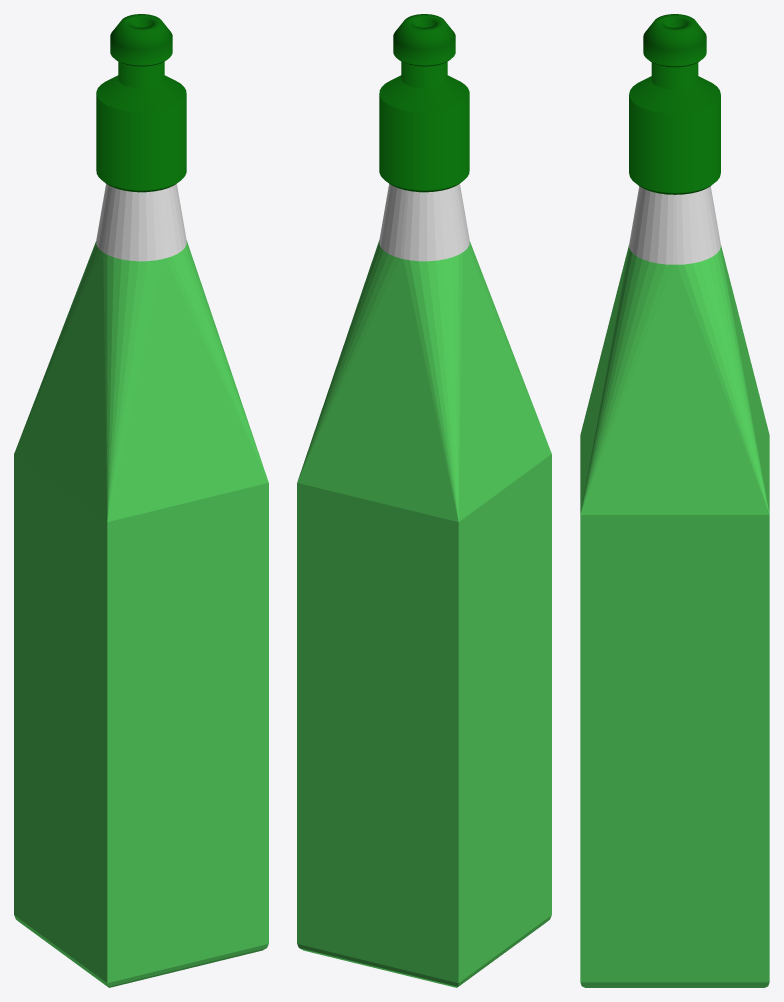
The model's file is eiyouzai2.fbx.
3 views of the same model, side by side, from view 1: azimuth 30°, elevation 25°; view 2: azimuth 150°, elevation 25°; view 3: azimuth 270°, elevation 25° (orthographic).
Visible parts, largest first — view 1: 円柱.001; view 2: 円柱.001; view 3: 円柱.001.
Boxes of the visible parts, x1=… form: 円柱.001: x1=14, y1=14, x2=268, y2=987; 円柱.001: x1=297, y1=14, x2=551, y2=987; 円柱.001: x1=580, y1=14, x2=769, y2=987.
Size of the model in its own units: 141 by 766 by 141.
